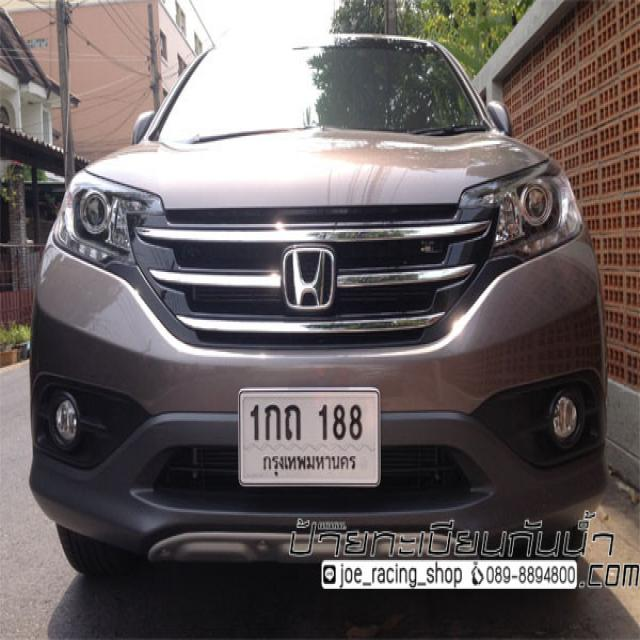license_plate: (238, 387, 382, 488)
